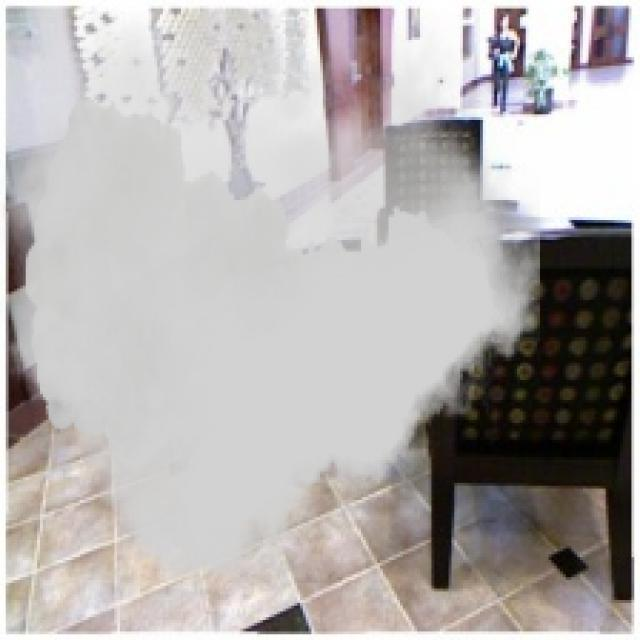Smoke: (0, 11, 540, 580)
